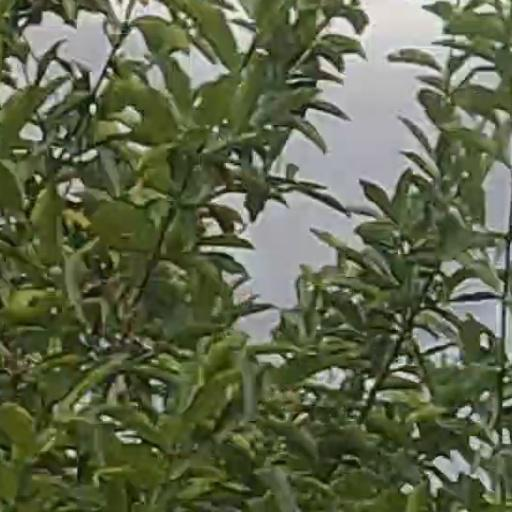acerola_verde: (11, 288, 50, 326)
